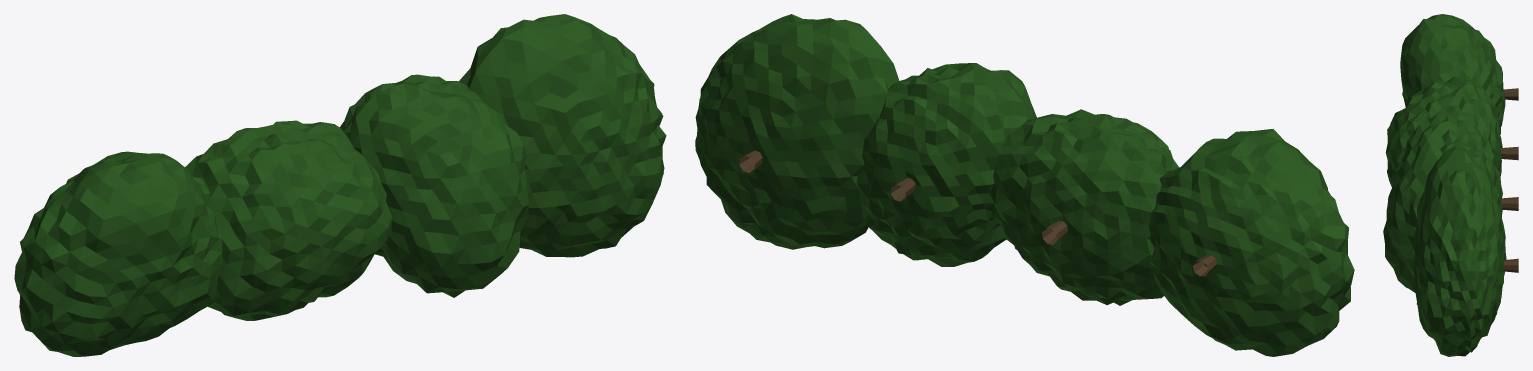
Rendered from citrus_run4_a.obj.
3 views of the same model, side by side, from view 1: azimuth 30°, elevation 25°; view 2: azimuth 150°, elevation 25°; view 3: azimuth 270°, elevation 25° (orthographic). The views are drawn at different scales.
Parts seen in each view (by area): view 1: canopy; view 2: canopy, trunk; view 3: canopy, trunk.
Part boxes in pixels (<box>): canopy: <box>14,14,666,356</box>; canopy: <box>695,14,1354,356</box>; trunk: <box>739,150,1216,276</box>; canopy: <box>1383,14,1506,356</box>; trunk: <box>1500,88,1518,272</box>.
Bounding box in the file's own units: 12.77 × 4.56 × 3.1.
